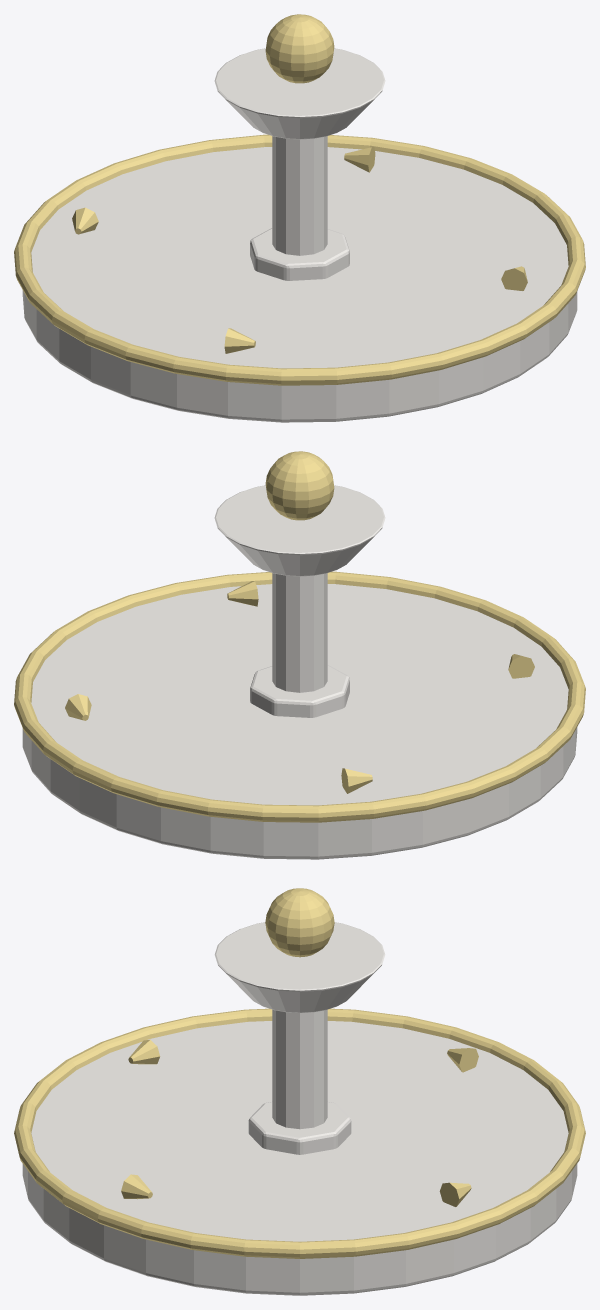
File: fountain.glb
The picture shows the model from 3 angles, top to bottom: view 1: azimuth 30°, elevation 25°; view 2: azimuth 150°, elevation 25°; view 3: azimuth 270°, elevation 25°; orthographic projection.
Visible parts, largest first — view 1: Fountain; view 2: Fountain; view 3: Fountain.
Boxes of the visible parts, bbox=[...] form: Fountain: bbox=[14, 14, 585, 422]; Fountain: bbox=[14, 451, 585, 859]; Fountain: bbox=[14, 888, 585, 1295].
Size of the model in its own units: 16.5 by 9.2 by 16.5.
